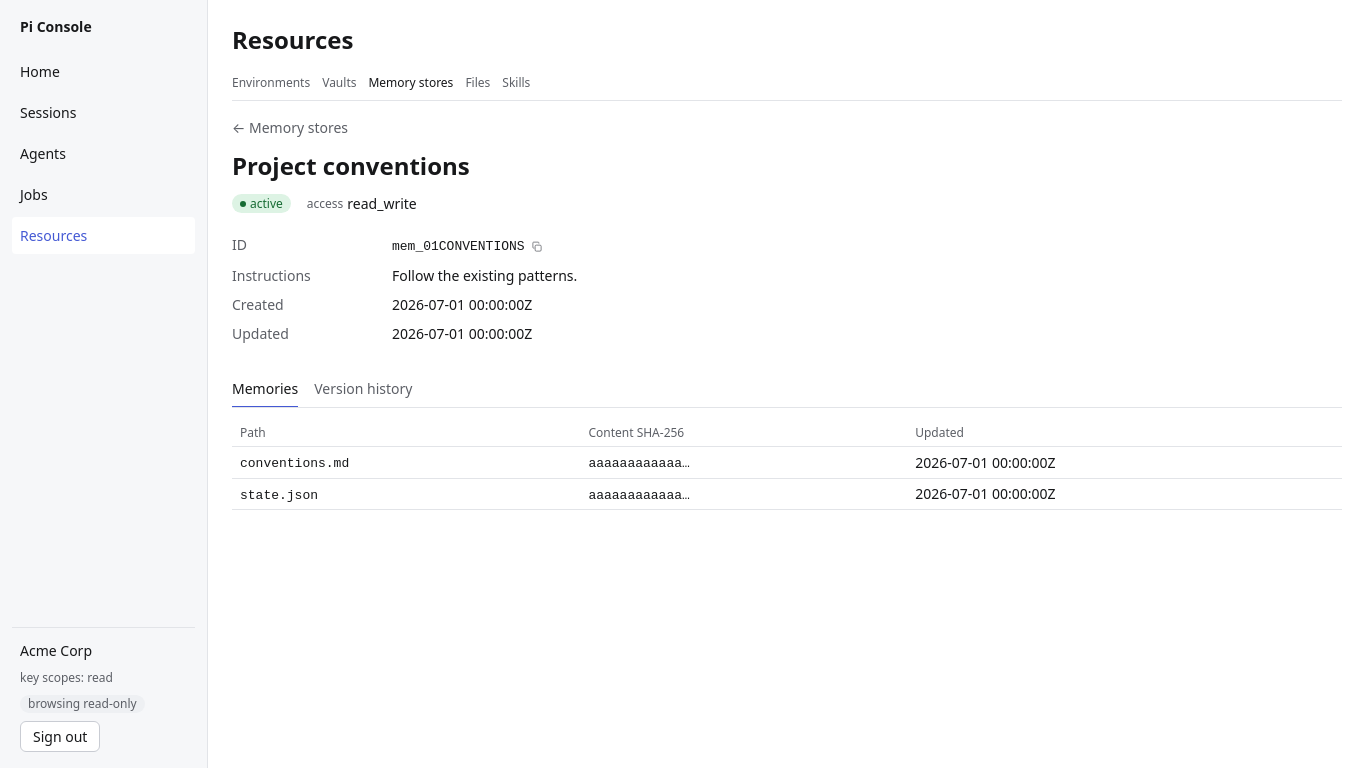
Scenario: memory store detail (§9.5) › opens a plain-text memory verbatim (content fetched on demand, DP-2)
Click the text "conventions.md".
click(295, 464)  # box left=240, top=456, right=349, bottom=471
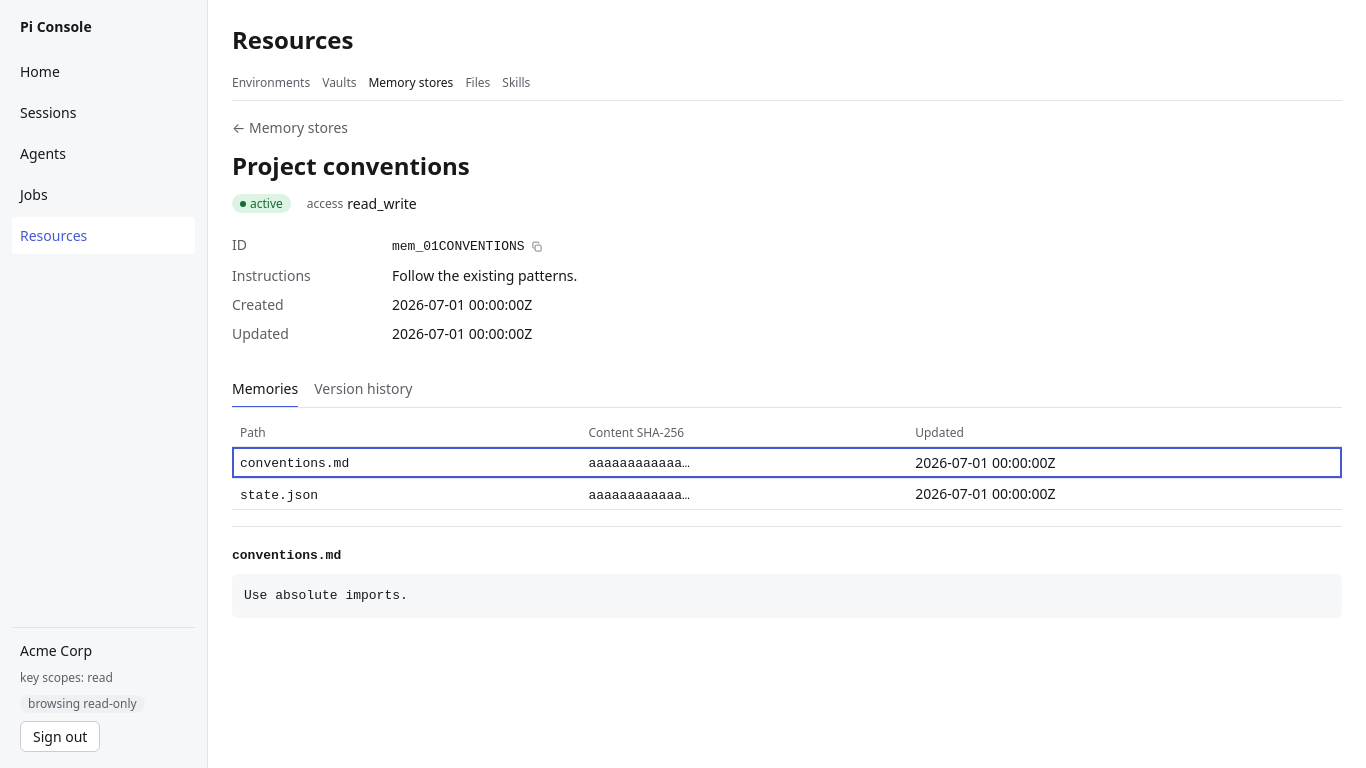
Result: the text "Use absolute imports." is shown at left=232, top=574, right=1342, bottom=618
